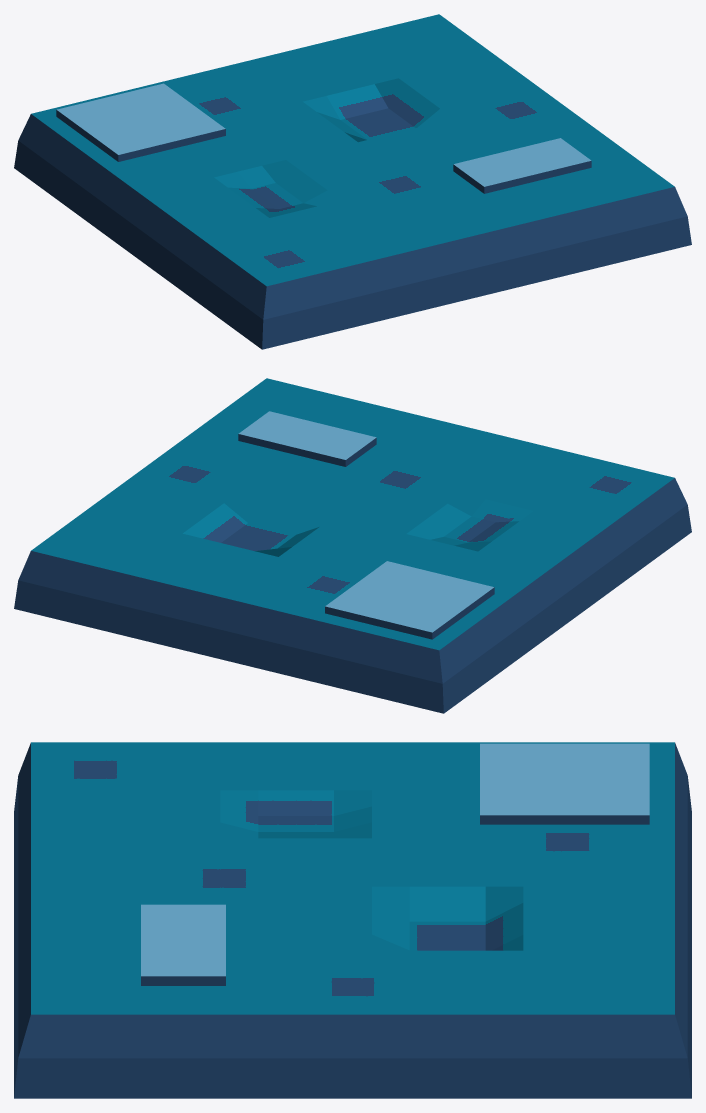
Rendered from Dungeon_Tile_1.obj.
The picture shows the model from 3 angles, top to bottom: view 1: azimuth 30°, elevation 25°; view 2: azimuth 150°, elevation 25°; view 3: azimuth 270°, elevation 25°; orthographic projection. The views are drawn at different scales.
Parts seen in each view (by area): view 1: Block-col, cuboid; view 2: Block-col, cuboid; view 3: Block-col, cuboid.
Boxes of the visible parts, left/top/right/bottom form: Block-col: left=14, top=14, right=691, bottom=349; cuboid: left=56, top=83, right=591, bottom=193; Block-col: left=14, top=378, right=691, bottom=713; cuboid: left=238, top=411, right=494, bottom=639; Block-col: left=14, top=742, right=691, bottom=1098; cuboid: left=141, top=743, right=649, bottom=985.
Bounding box in the file's own units: 1 × 0.1406 × 1.
3 materials, 3 textured.
